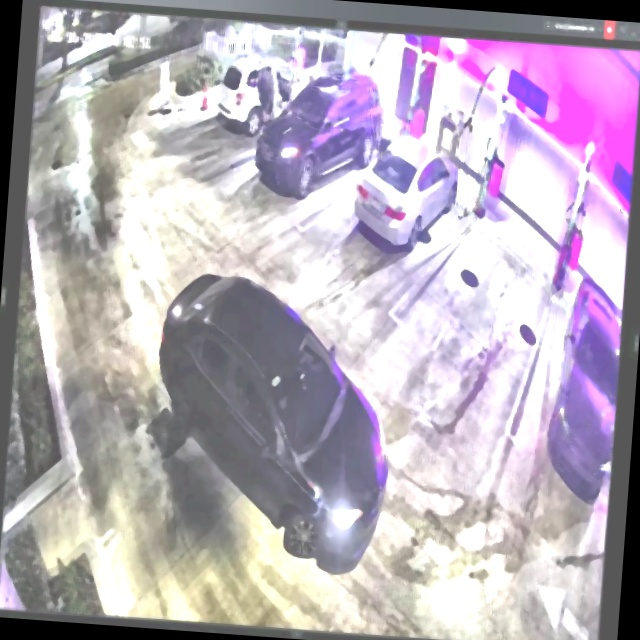Car: (143, 261, 401, 576), (258, 63, 384, 198), (352, 132, 459, 252)
